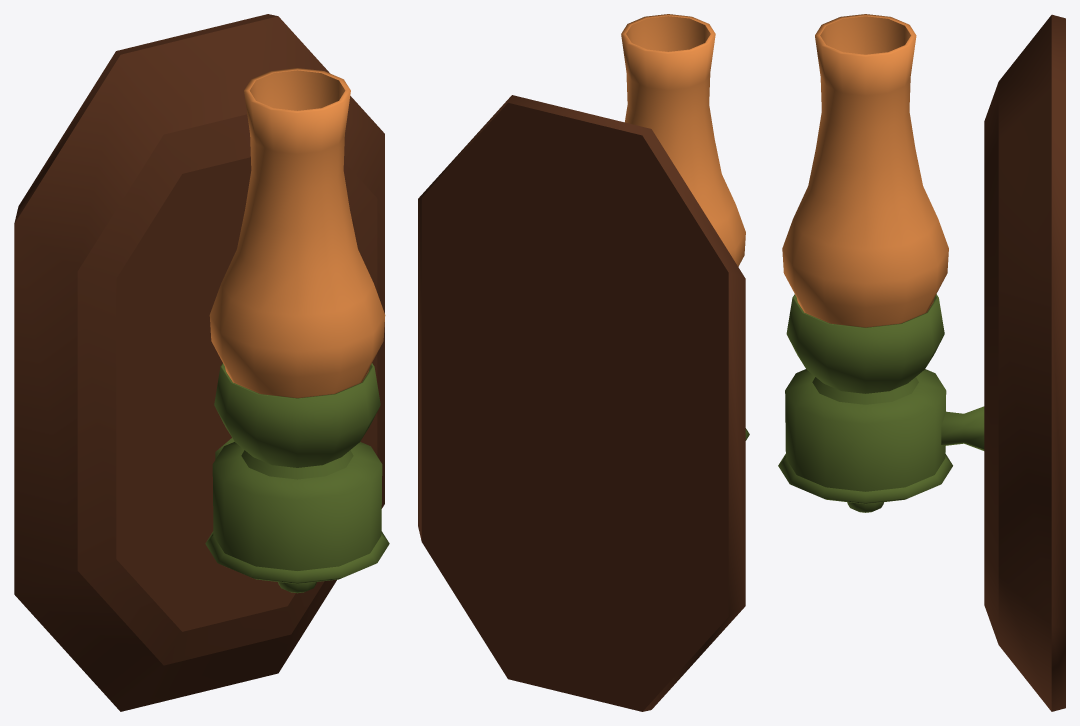
Rendered from lamp.fbx.
The picture shows the model from 3 angles, left to right: view 1: azimuth 30°, elevation 25°; view 2: azimuth 150°, elevation 25°; view 3: azimuth 270°, elevation 25°; orthographic projection. The views are drawn at different scales.
Visible parts, largest first — view 1: Lamp; view 2: Lamp; view 3: Lamp.
Part boxes in pixels (x1,y1,x2,y2): Lamp: (14, 14, 389, 711); Lamp: (418, 14, 749, 711); Lamp: (778, 14, 1065, 711).
Bounding box in the file's own units: 24.46 × 42.49 × 17.33.
